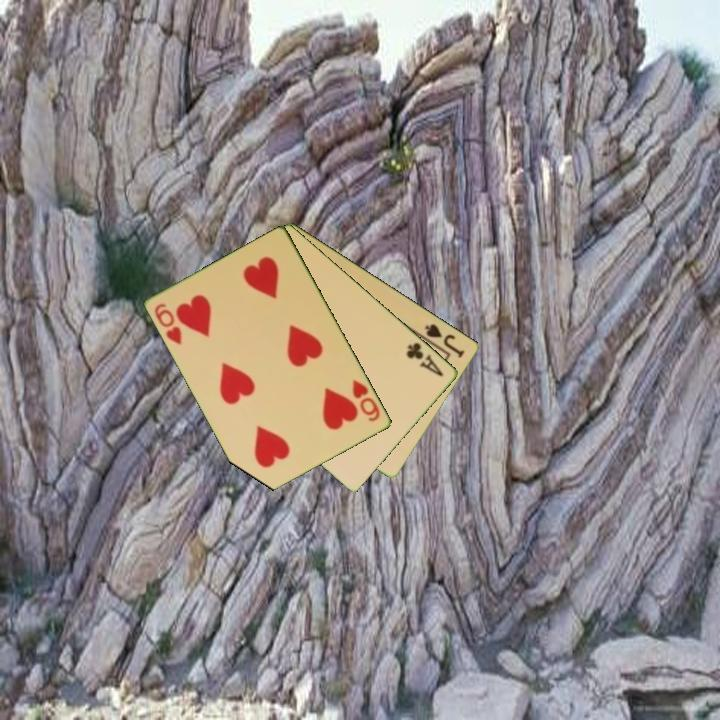6h: (349, 376, 383, 425), (151, 300, 185, 348)
Ac: (403, 339, 447, 380)
Js: (422, 320, 468, 361)
